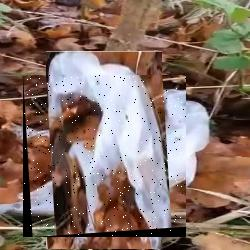plastic: (23, 75, 186, 237)
